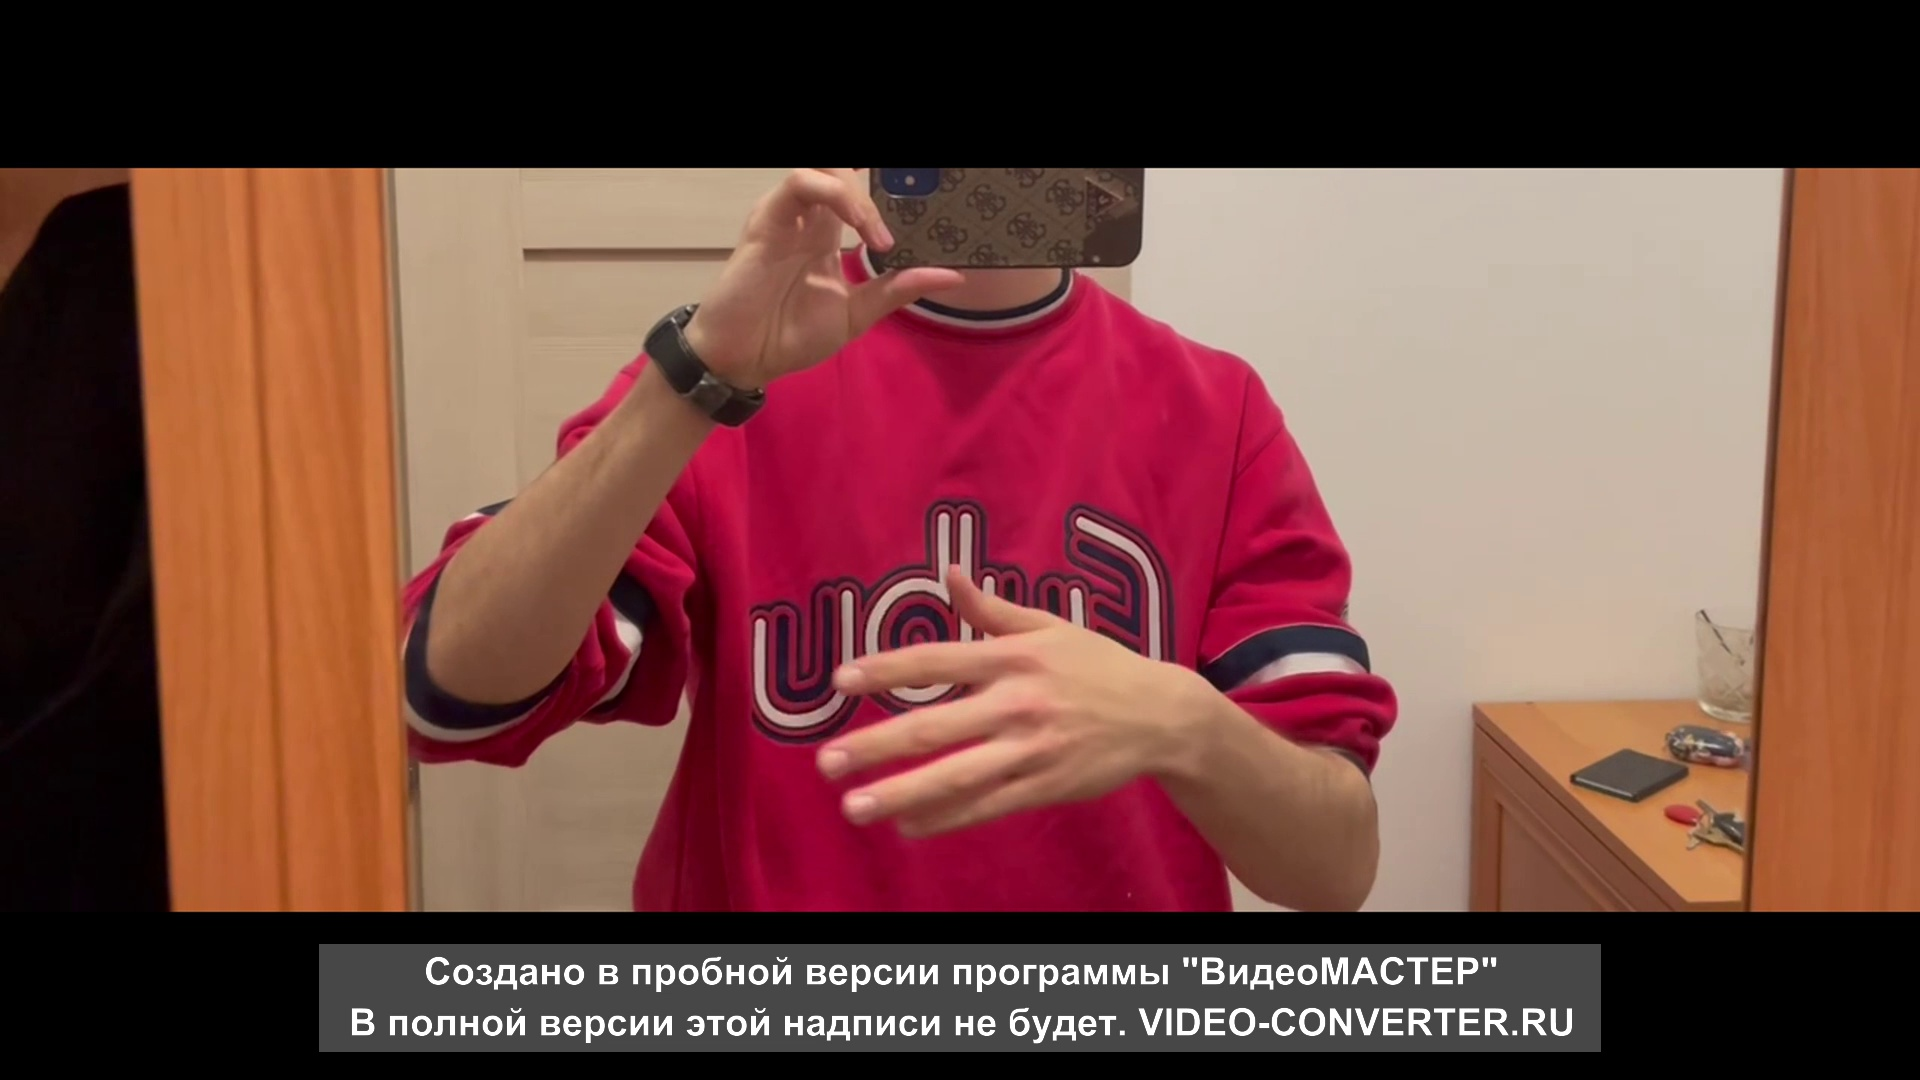Кисть: (818, 564, 1164, 839)
